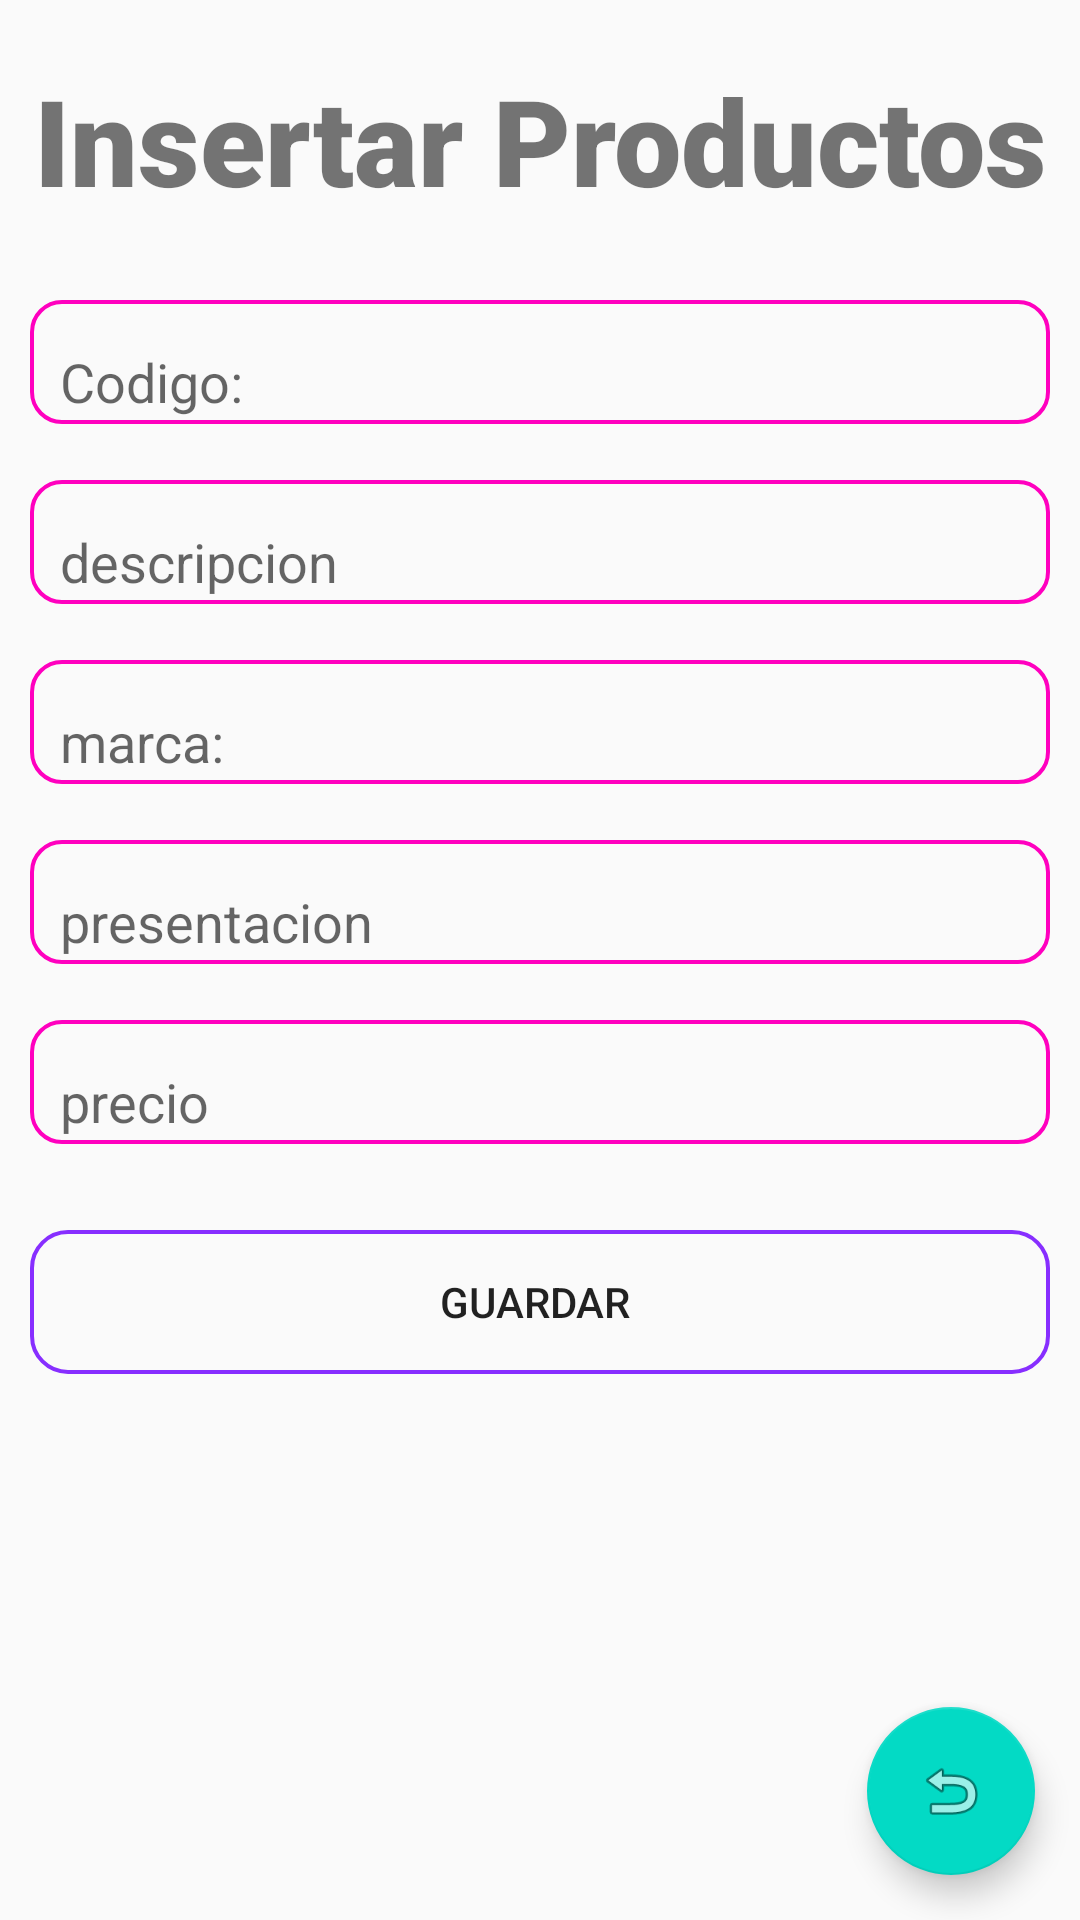

Icon bounding boxes for this 1080px x 1920px phone screenshot, format (x1, y1, x2, y2):
revert: (867, 1707, 1035, 1875)
